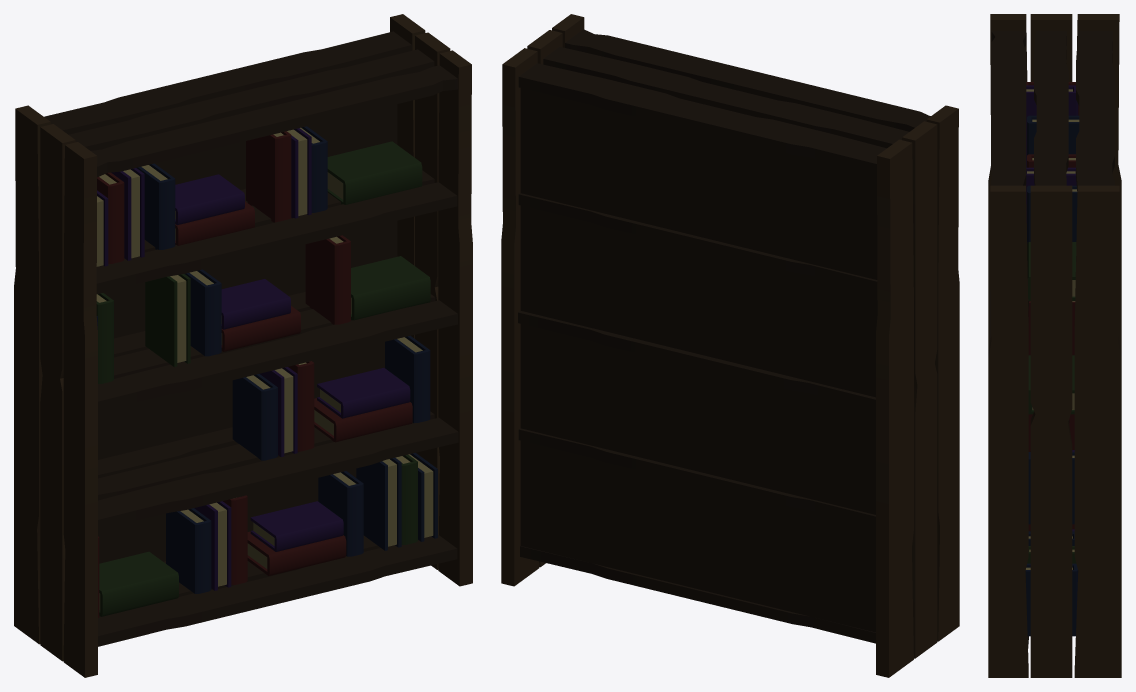
Rendered from Bookcase_Full.obj.
3 renders of one model, left to right at view 1: azimuth 30°, elevation 25°; view 2: azimuth 150°, elevation 25°; view 3: azimuth 270°, elevation 25°, orthographic. The views are drawn at different scales.
Visible parts, largest first — view 1: Bookcase_Full_Cylinder.001; view 2: Bookcase_Full_Cylinder.001; view 3: Bookcase_Full_Cylinder.001.
Boxes of the visible parts, <box> form: Bookcase_Full_Cylinder.001: <box>14,14,472,677</box>; Bookcase_Full_Cylinder.001: <box>501,14,959,677</box>; Bookcase_Full_Cylinder.001: <box>988,14,1121,677</box>.
Size of the model in its own units: 2.08 by 2.65 by 0.6582.
